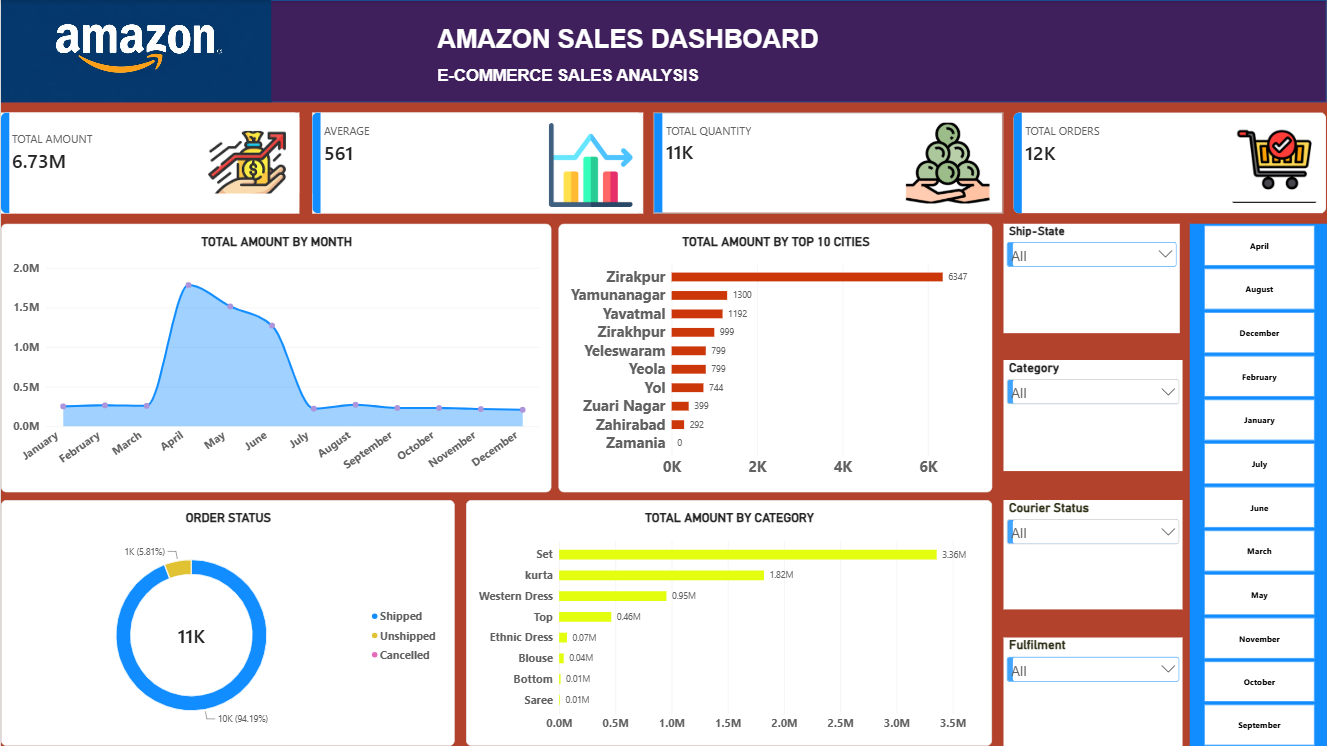

The dashboard page shown, as its layout file describes it:
{"tool":"powerbi","page":{"name":"DASHBOARD","canvas":[1920,1080],"ordinal":0},"visuals":[{"type":"shape","box":[0,0,1920.4,148.2],"z":0},{"type":"image","box":[0,0,391.1,148.2],"z":1000},{"type":"textbox","box":[632.1,34,566,147.2],"z":2000},{"type":"cardVisual","fields":{"Data":["Amazon_Ecommerce_Project.TOTAL_REVENUE"]},"box":[0,162.6,432,146],"z":3000},{"type":"cardVisual","fields":{"Data":["Amazon_Ecommerce_Project.Total Quantity"]},"box":[944.8,162.6,506,146],"z":4000},{"type":"cardVisual","fields":{"Data":["Amazon_Ecommerce_Project.AVERAGE"]},"box":[450.8,162.6,479.6,146.1],"z":5000},{"type":"cardVisual","fields":{"Data":["Amazon_Ecommerce_Project.Total Orders"]},"box":[1465.5,162.6,454,146],"z":6000},{"type":"lineChart","title":"TOTAL AMOUNT BY MONTH","fields":{"Category":["Amazon_Ecommerce_Project.Date.Variation.Date Hierarchy.Month","Amazon_Ecommerce_Project.Date.Variation.Date Hierarchy.Day"],"Y":["Sum(Amazon_Ecommerce_Project.Revenue_Amount)"]},"box":[0,323.2,796.6,389],"z":7000},{"type":"clusteredBarChart","title":"TOTAL AMOUNT BY  TOP 10 CITIES","fields":{"Category":["Amazon_Ecommerce_Project.Ship-City"],"Y":["Sum(Amazon_Ecommerce_Project.Revenue_Amount)"]},"box":[806.9,323.2,627.8,389],"z":8000},{"type":"donutChart","title":"ORDER STATUS","fields":{"Category":["Amazon_Ecommerce_Project.Courier Status"],"Y":["Sum(Amazon_Ecommerce_Project.Qty)"]},"box":[0,724.5,656.6,356.1],"z":9000},{"type":"clusteredBarChart","title":"TOTAL AMOUNT BY  CATEGORY","fields":{"Category":["Amazon_Ecommerce_Project.Category"],"Y":["Sum(Amazon_Ecommerce_Project.Revenue_Amount)"]},"box":[673.1,724.5,761.6,356.1],"z":10000},{"type":"slicer","fields":{"Values":["Amazon_Ecommerce_Project.Month"]},"box":[1720.8,323.2,199.7,757.5],"z":11000},{"type":"slicer","fields":{"Values":["Amazon_Ecommerce_Project.Ship-State"]},"box":[1451.1,323.2,255.2,158.5],"z":12000},{"type":"slicer","fields":{"Values":["Amazon_Ecommerce_Project.Category"]},"box":[1451.1,520.8,259.3,160.5],"z":13000},{"type":"slicer","fields":{"Values":["Amazon_Ecommerce_Project.Courier Status"]},"box":[1451.1,724.5,259.3,158.5],"z":14000},{"type":"slicer","fields":{"Values":["Amazon_Ecommerce_Project.Fulfilment"]},"box":[1451.1,922.1,259.3,158.5],"z":14001}]}

Visuals, with their boxes in screenshot pixels (x1, y1, x2, y2), scaled from the page's 1920x1080 canvas onto the 1327x746 screenshot:
shape: left=0, top=0, right=1326, bottom=102
image: left=0, top=0, right=270, bottom=102
textbox: left=437, top=23, right=828, bottom=125
cardVisual - Amazon_Ecommerce_Project.TOTAL_REVENUE: left=0, top=112, right=299, bottom=213
cardVisual - Amazon_Ecommerce_Project.Total Quantity: left=653, top=112, right=1003, bottom=213
cardVisual - Amazon_Ecommerce_Project.AVERAGE: left=312, top=112, right=643, bottom=213
cardVisual - Amazon_Ecommerce_Project.Total Orders: left=1013, top=112, right=1326, bottom=213
"TOTAL AMOUNT BY MONTH" lineChart: left=0, top=223, right=551, bottom=492
"TOTAL AMOUNT BY  TOP 10 CITIES" clusteredBarChart: left=558, top=223, right=992, bottom=492
"ORDER STATUS" donutChart: left=0, top=500, right=454, bottom=745
"TOTAL AMOUNT BY  CATEGORY" clusteredBarChart: left=465, top=500, right=992, bottom=745
slicer - Amazon_Ecommerce_Project.Month: left=1189, top=223, right=1326, bottom=745
slicer - Amazon_Ecommerce_Project.Ship-State: left=1003, top=223, right=1179, bottom=333
slicer - Amazon_Ecommerce_Project.Category: left=1003, top=360, right=1182, bottom=471
slicer - Amazon_Ecommerce_Project.Courier Status: left=1003, top=500, right=1182, bottom=610
slicer - Amazon_Ecommerce_Project.Fulfilment: left=1003, top=637, right=1182, bottom=745
